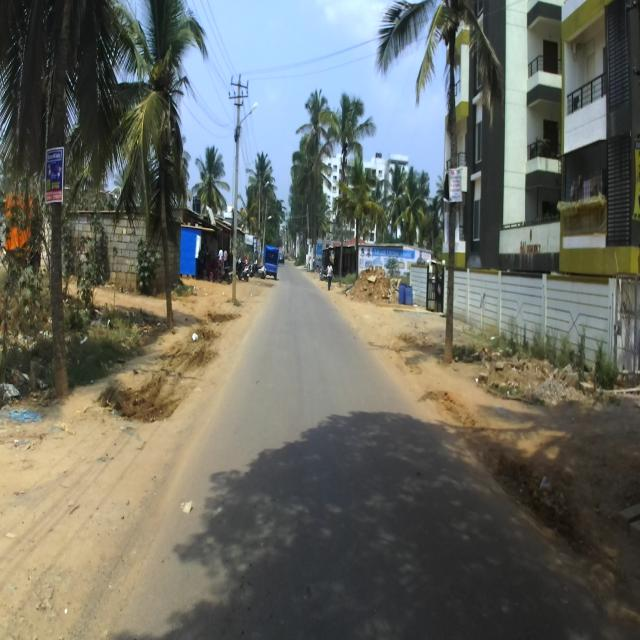electric pole ahead at: (225, 70, 250, 304)
tree ahead at: (40, 60, 86, 401), (151, 159, 181, 336)
